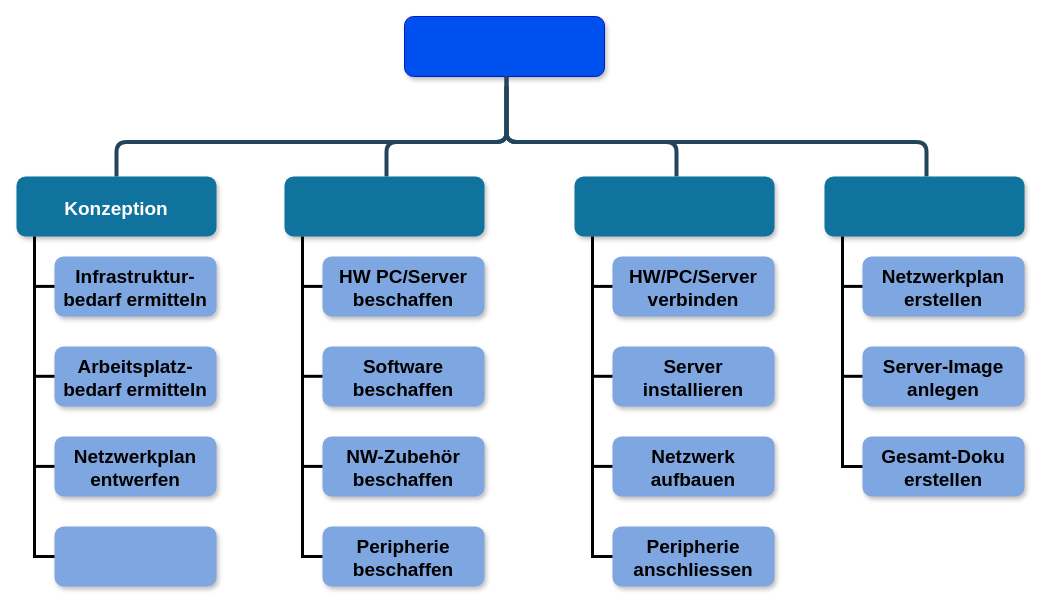
This 1041x603 diagram has some shape labels left out. The shapes that lost their labels are listed below. From the top down, each one's centre as x and y in pixels, then its label:
the point at 505,48: IT-Installation
the point at 385,207: Beschaffung
the point at 675,207: Aufbau
the point at 925,207: Dokumentation
the point at 136,557: Peripheriebedarf ermitteln
